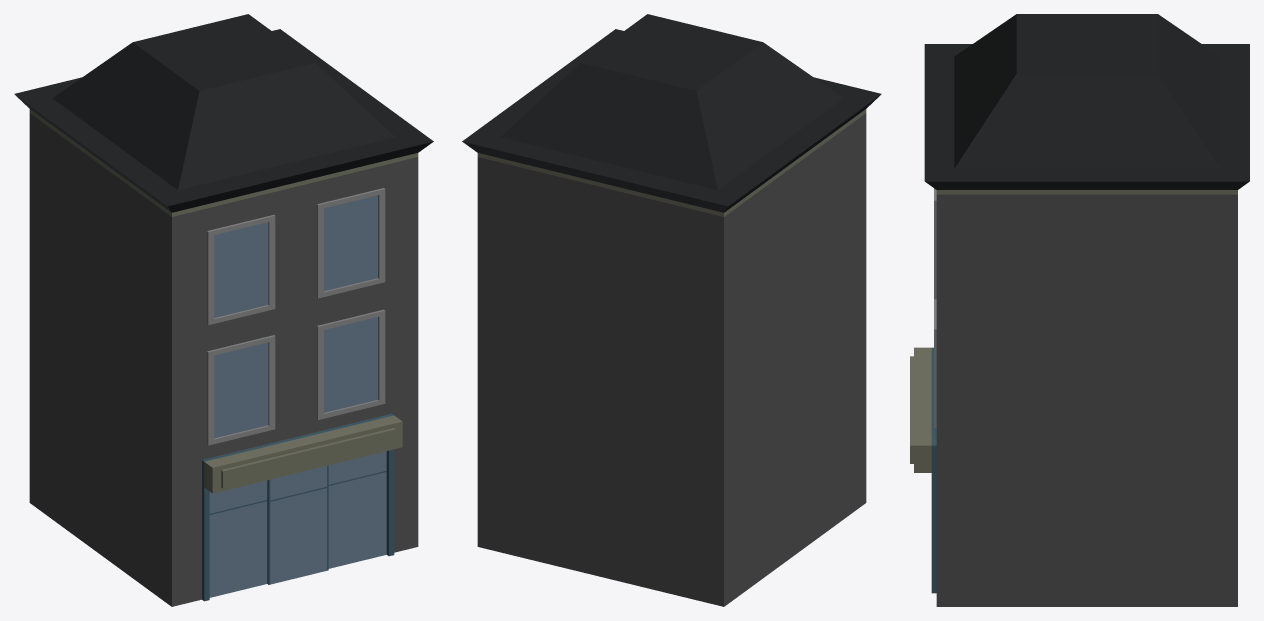
The model's file is House3Level3.fbx.
3 views of the same model, side by side, from view 1: azimuth 30°, elevation 25°; view 2: azimuth 150°, elevation 25°; view 3: azimuth 270°, elevation 25° (orthographic). The views are drawn at different scales.
Visible parts, largest first — view 1: House3Lvl3.001; view 2: House3Lvl3.001; view 3: House3Lvl3.001.
Boxes of the visible parts, left/top/right/bottom form: House3Lvl3.001: left=14, top=14, right=433, bottom=606; House3Lvl3.001: left=462, top=14, right=881, bottom=606; House3Lvl3.001: left=910, top=14, right=1249, bottom=606.
Size of the model in its own units: 89.13 by 151 by 93.14.
